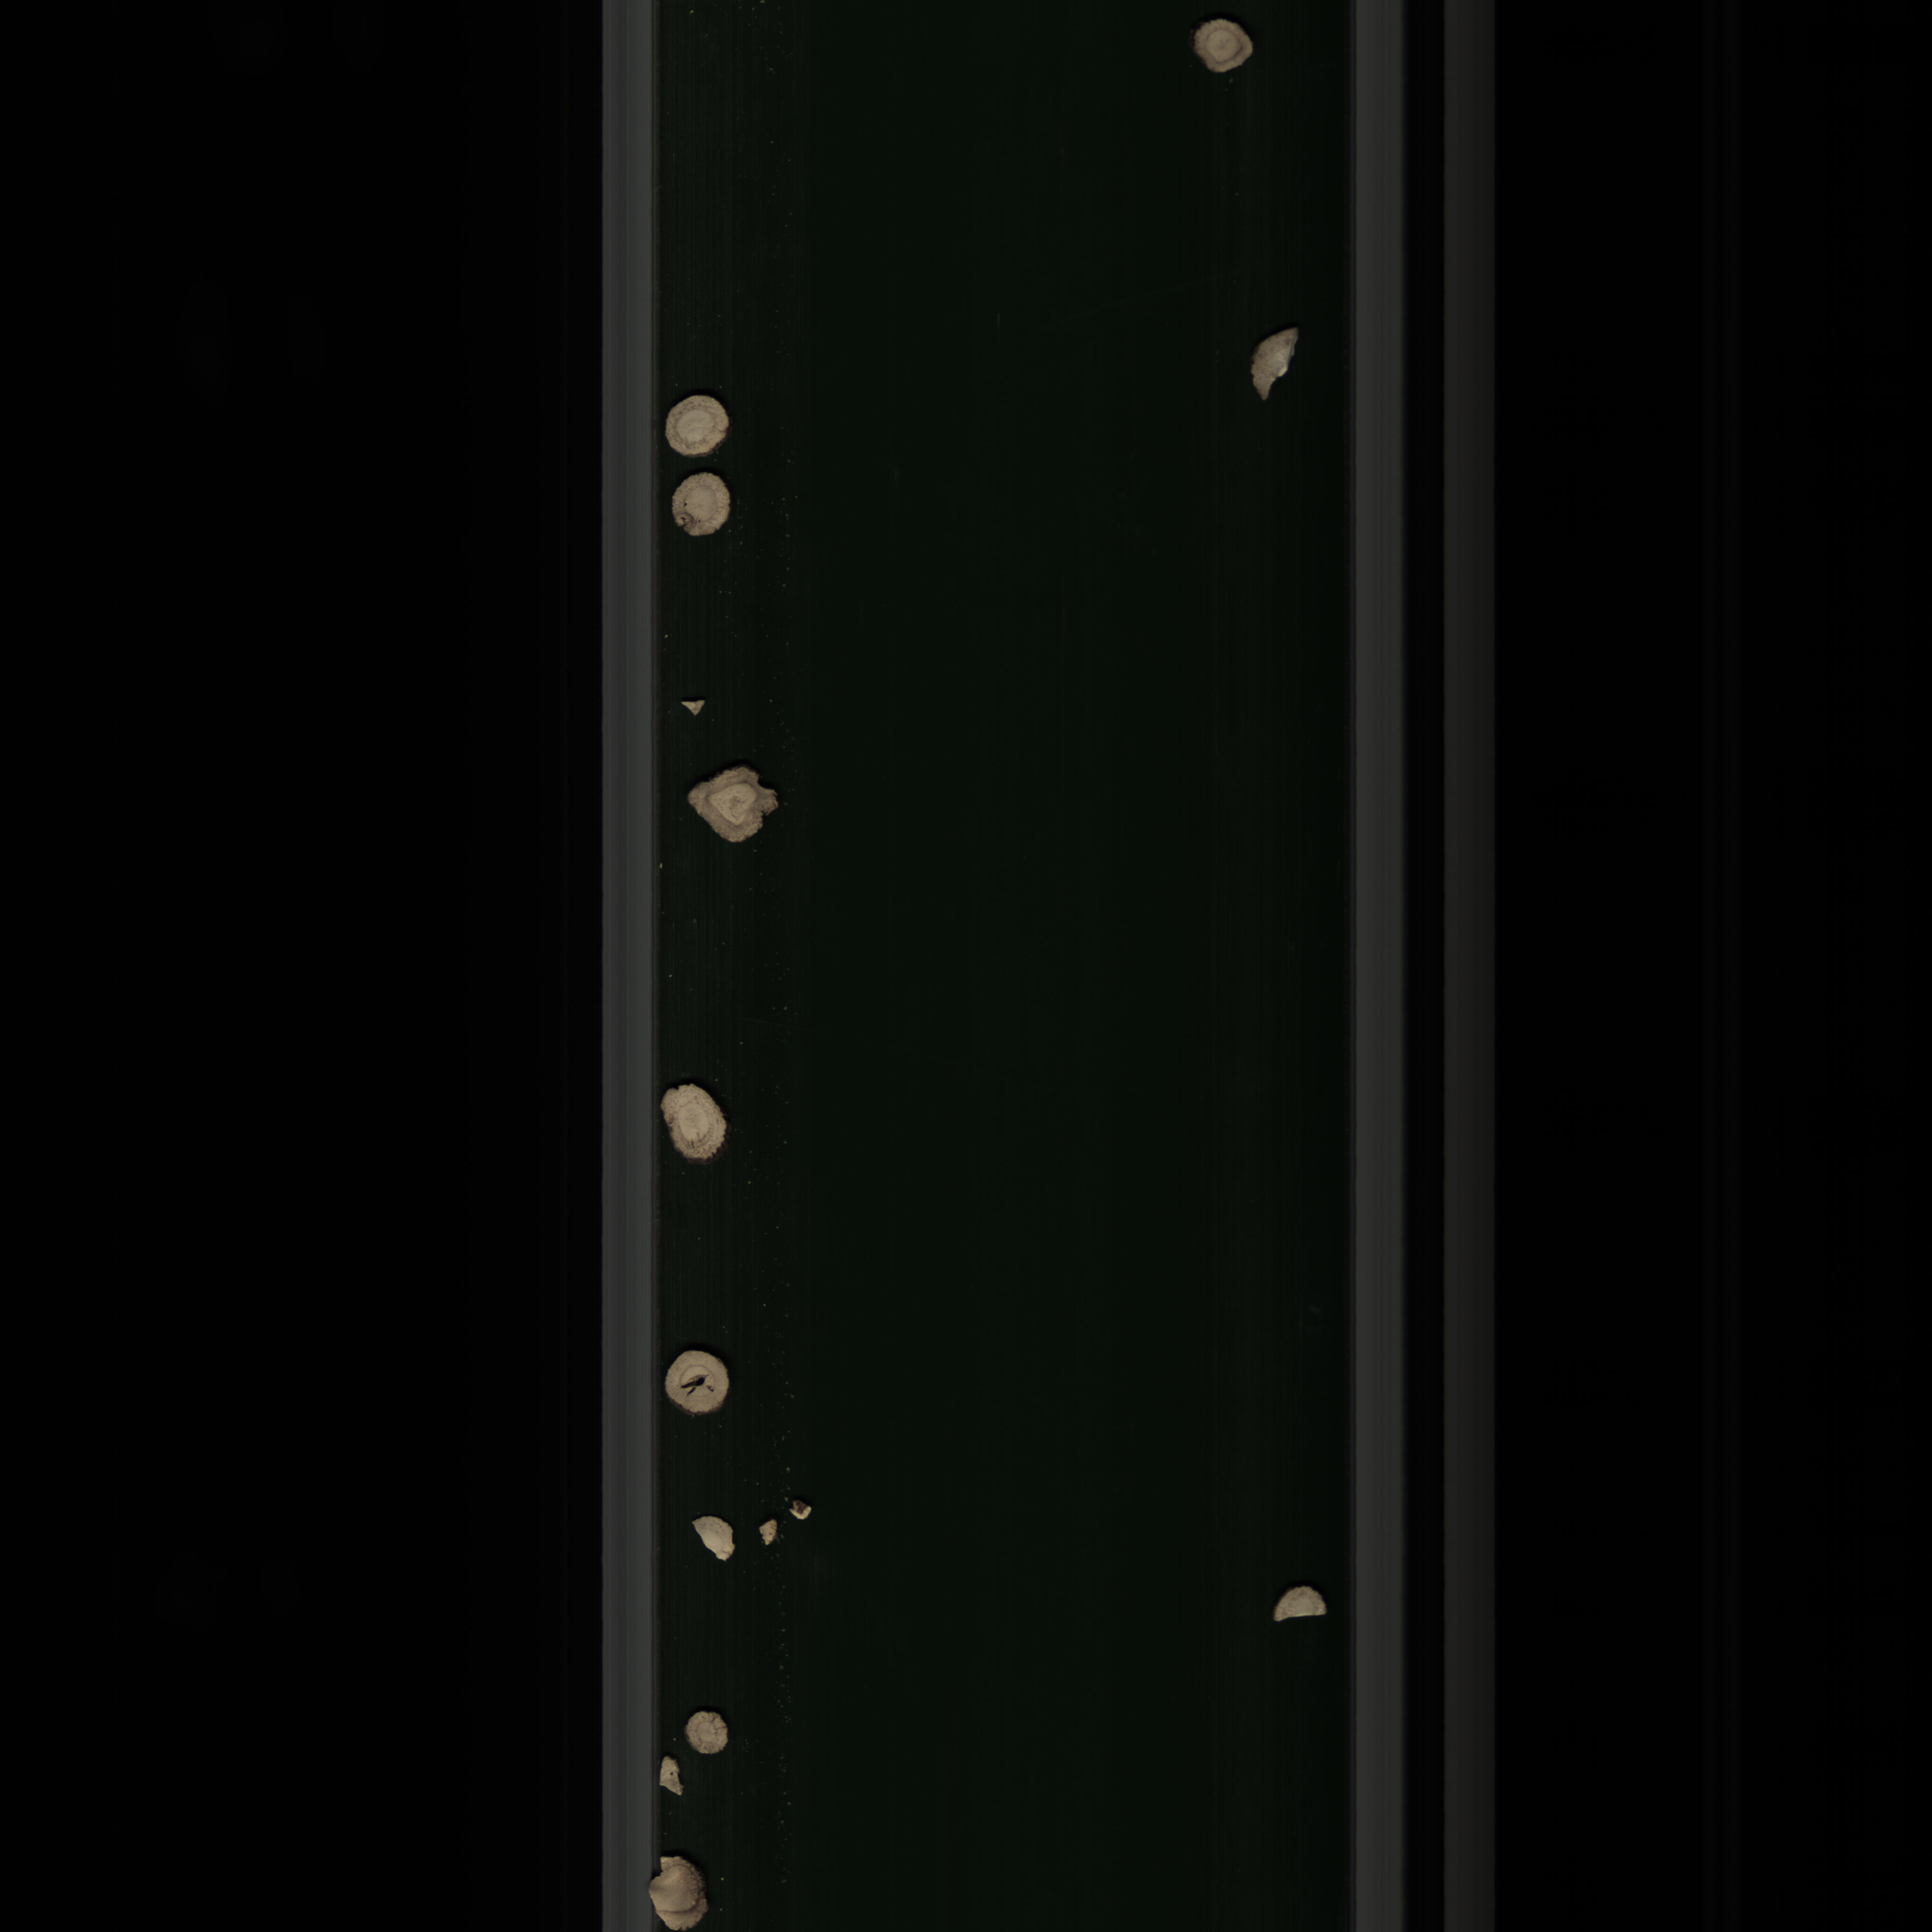debris: (1215, 318, 1311, 403), (648, 1849, 715, 1930), (685, 1506, 738, 1573), (1263, 1582, 1339, 1626), (648, 1746, 694, 1805), (784, 1495, 821, 1529), (755, 1516, 780, 1550)
distortion: (676, 757, 794, 858)
hole: (656, 1346, 731, 1424)
moldy: (1184, 16, 1263, 81)
